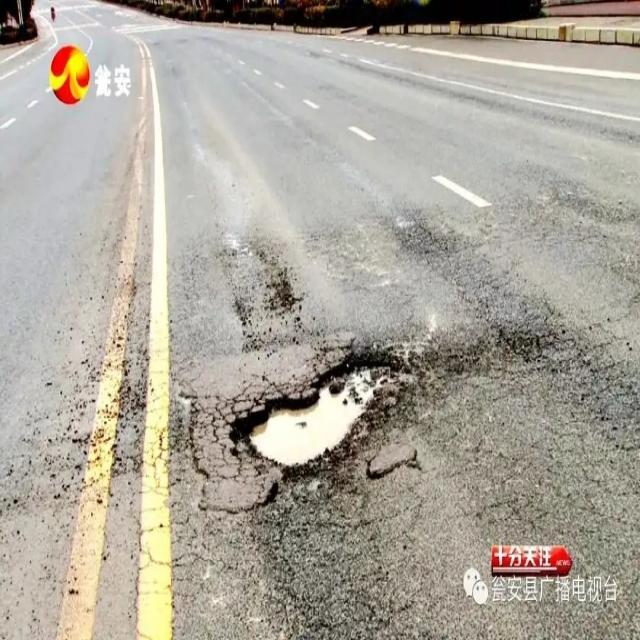Pothole: (206, 354, 426, 494)
